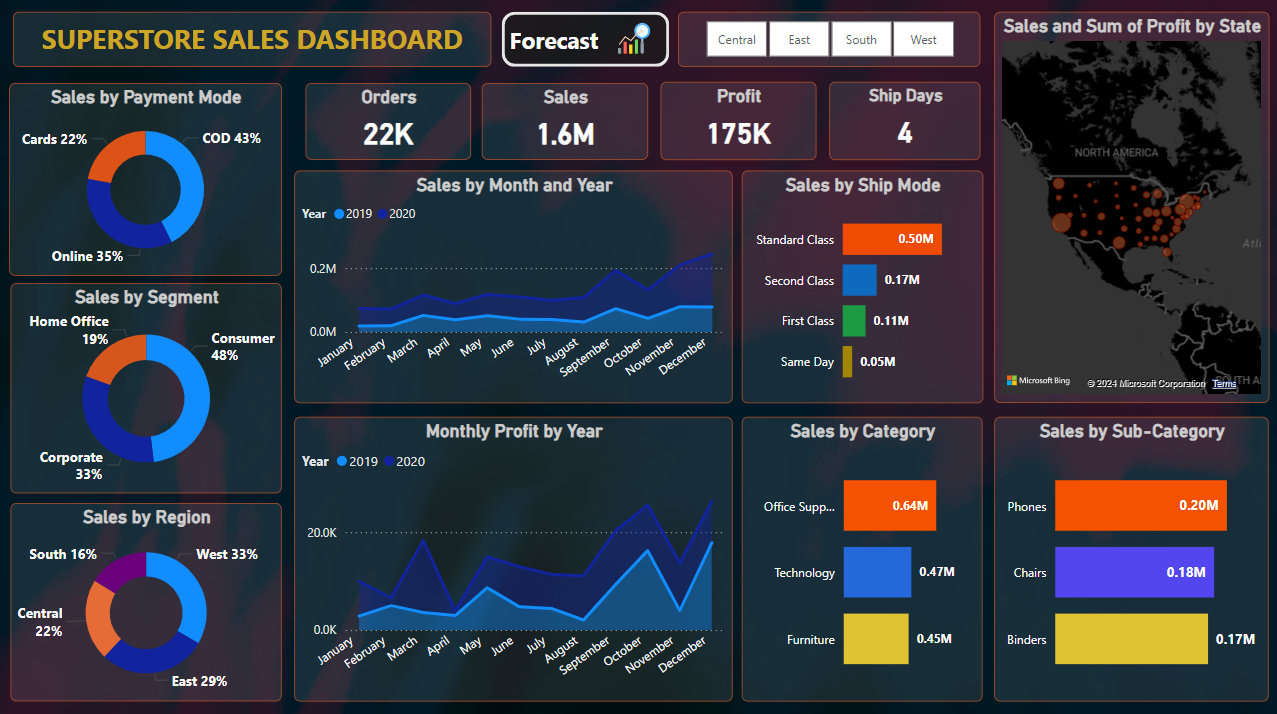

The dashboard page shown, as its layout file describes it:
{"tool":"powerbi","page":{"name":"Dashboard","canvas":[1280,720],"ordinal":0},"visuals":[{"type":"clusteredBarChart","title":"Sales by Category","fields":{"Category":["SuperStore_Sales_Dataset.Category"],"Y":["Sum(SuperStore_Sales_Dataset.Sales)"]},"box":[744.2,418.6,240.7,284.9],"z":0},{"type":"clusteredBarChart","title":"Sales by Sub-Category","fields":{"Category":["SuperStore_Sales_Dataset.Sub-Category"],"Y":["Sum(SuperStore_Sales_Dataset.Sales)"]},"box":[996.5,418.6,274.4,284.9],"z":1000},{"type":"clusteredBarChart","title":"Sales by Ship Mode","fields":{"Category":["SuperStore_Sales_Dataset.Ship Mode"],"Y":["Sum(SuperStore_Sales_Dataset.Sales)"]},"box":[743.8,172.5,241.2,232.5],"z":2000},{"type":"stackedAreaChart","title":"Sales by Month and Year","fields":{"Y":["Sum(SuperStore_Sales_Dataset.Sales)"],"Category":["SuperStore_Sales_Dataset.Order Date.Variation.Date Hierarchy.Month","SuperStore_Sales_Dataset.Order Date.Variation.Date Hierarchy.Day"],"Series":["SuperStore_Sales_Dataset.Order Date.Variation.Date Hierarchy.Year"]},"box":[296.2,172.5,438.8,232.5],"z":3000},{"type":"stackedAreaChart","title":"Monthly Profit by Year","fields":{"Category":["SuperStore_Sales_Dataset.Order Date.Variation.Date Hierarchy.Month","SuperStore_Sales_Dataset.Order Date.Variation.Date Hierarchy.Day"],"Series":["SuperStore_Sales_Dataset.Order Date.Variation.Date Hierarchy.Year"],"Y":["Sum(SuperStore_Sales_Dataset.Profit)"]},"box":[296.5,418.6,438.4,284.9],"z":4000},{"type":"map","title":"Sales and Sum of Profit by State","fields":{"Category":["SuperStore_Sales_Dataset.State"],"Size":["Sum(SuperStore_Sales_Dataset.Sales)"]},"box":[996.2,13.8,275,391.2],"z":5000},{"type":"donutChart","title":"Sales by Segment","fields":{"Category":["SuperStore_Sales_Dataset.Segment"],"Y":["Sum(SuperStore_Sales_Dataset.Sales)"]},"box":[12.5,285,271.2,210],"z":6000},{"type":"donutChart","title":"Sales by Payment Mode","fields":{"Category":["SuperStore_Sales_Dataset.Payment Mode"],"Y":["Sum(SuperStore_Sales_Dataset.Sales)"]},"box":[11.2,85,272.5,192.5],"z":7000},{"type":"slicer","fields":{"Values":["SuperStore_Sales_Dataset.Region"]},"box":[680,13.8,302.5,55],"z":8000},{"type":"textbox","box":[15.2,13.8,478.2,55.1],"z":9000},{"type":"card","title":"Sales","fields":{"Values":["Sum(SuperStore_Sales_Dataset.Sales)"]},"box":[483.7,85.4,166.8,77.2],"z":10000},{"type":"card","title":"Profit","fields":{"Values":["Sum(SuperStore_Sales_Dataset.Profit)"]},"box":[662.9,84.1,155.7,78.6],"z":11000},{"type":"card","title":"Orders","fields":{"Values":["Sum(SuperStore_Sales_Dataset.Quantity)"]},"box":[307.3,85.4,165.4,77.2],"z":12000},{"type":"card","title":"Ship Days","fields":{"Values":["Avg(SuperStore_Sales_Dataset.AvgDelivery)"]},"box":[831,84.1,151.6,78.6],"z":13000},{"type":"donutChart","title":"Sales by Region","fields":{"Category":["SuperStore_Sales_Dataset.Region"],"Y":["Sum(SuperStore_Sales_Dataset.Sales)"]},"box":[12.5,505,271.2,198.8],"z":14000},{"type":"actionButton","box":[503.8,13.8,167.5,55],"z":15000},{"type":"image","box":[611.2,18.8,50,43.8],"z":15001}]}

Visuals, with their boxes in screenshot pixels (x1, y1, x2, y2), scaled from the page's 1280x720 canvas onto the 1277x714 screenshot:
"Sales by Category" clusteredBarChart: 742 415 983 698
"Sales by Sub-Category" clusteredBarChart: 994 415 1268 698
"Sales by Ship Mode" clusteredBarChart: 742 171 983 402
"Sales by Month and Year" stackedAreaChart: 296 171 733 402
"Monthly Profit by Year" stackedAreaChart: 296 415 733 698
"Sales and Sum of Profit by State" map: 994 14 1268 402
"Sales by Segment" donutChart: 12 283 283 491
"Sales by Payment Mode" donutChart: 11 84 283 275
slicer - SuperStore_Sales_Dataset.Region: 678 14 980 68
textbox: 15 14 492 68
"Sales" card: 483 85 649 161
"Profit" card: 661 83 817 161
"Orders" card: 307 85 472 161
"Ship Days" card: 829 83 980 161
"Sales by Region" donutChart: 12 501 283 698
actionButton: 503 14 670 68
image: 610 19 660 62
